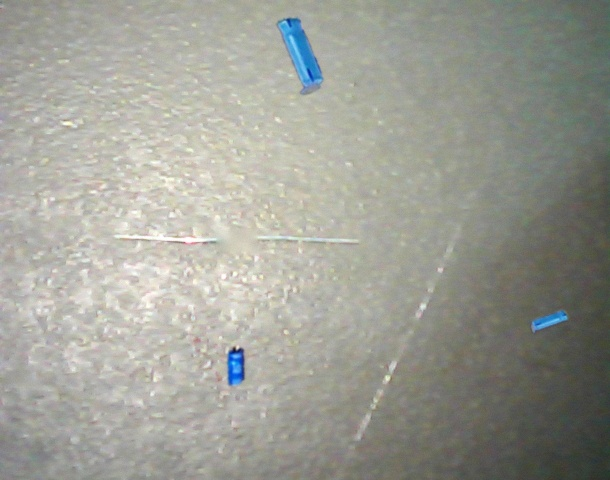capacitor: (277, 17, 323, 94), (531, 310, 568, 334), (227, 345, 245, 386)
